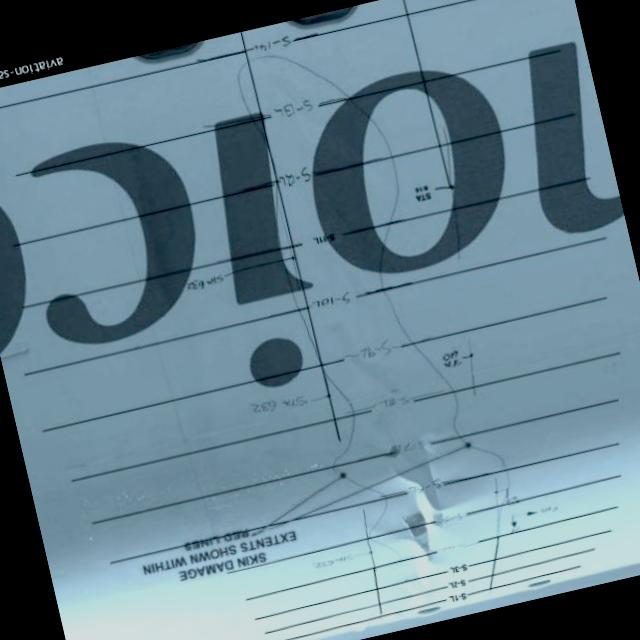dent: (314, 260, 468, 619)
